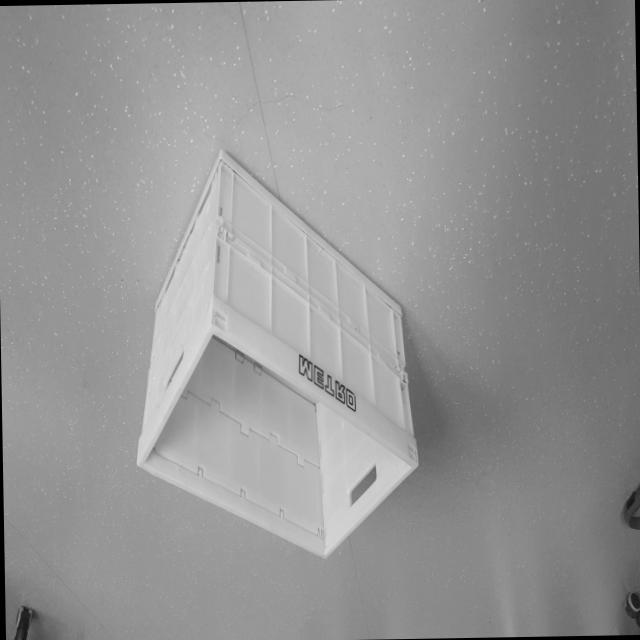box: (118, 140, 419, 572)
